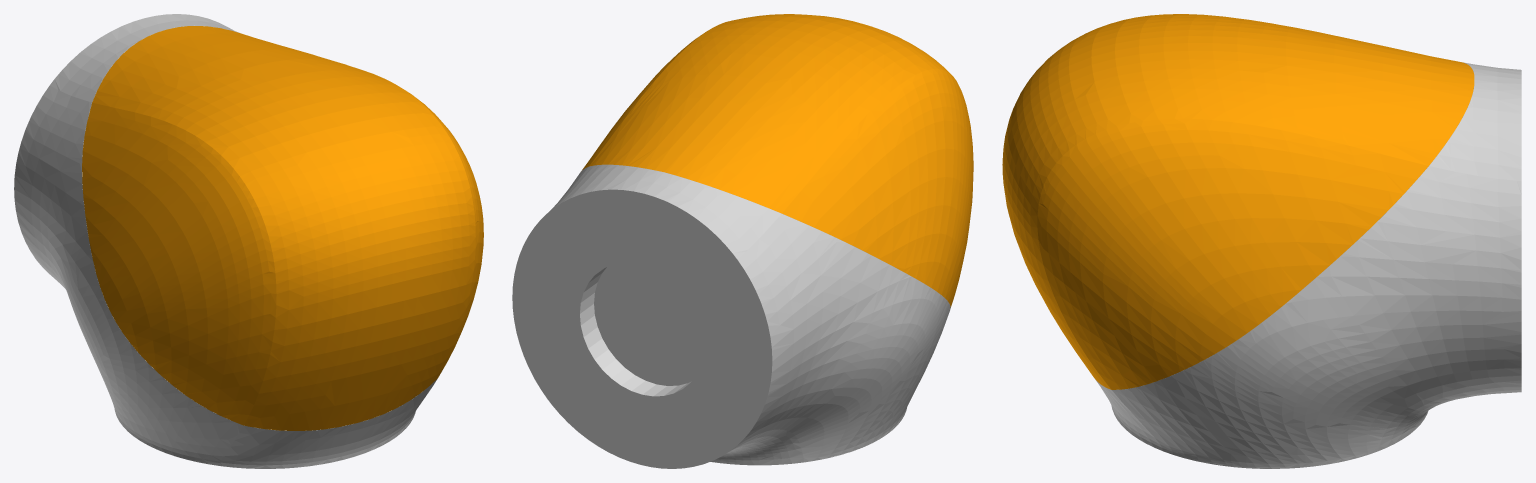
The picture shows the model from 3 angles, left to right: view 1: azimuth 30°, elevation 25°; view 2: azimuth 150°, elevation 25°; view 3: azimuth 270°, elevation 25°; orthographic projection. The views are drawn at different scales.
Parts seen in each view (by area): view 1: Link_6; view 2: Link_6; view 3: Link_6.
Part boxes in pixels (x1,y1,x2,y2): Link_6: [14, 14, 483, 468]; Link_6: [512, 14, 973, 468]; Link_6: [1002, 14, 1521, 468].
Size of the model in its own units: 0.1323 by 0.1674 by 0.1376.
